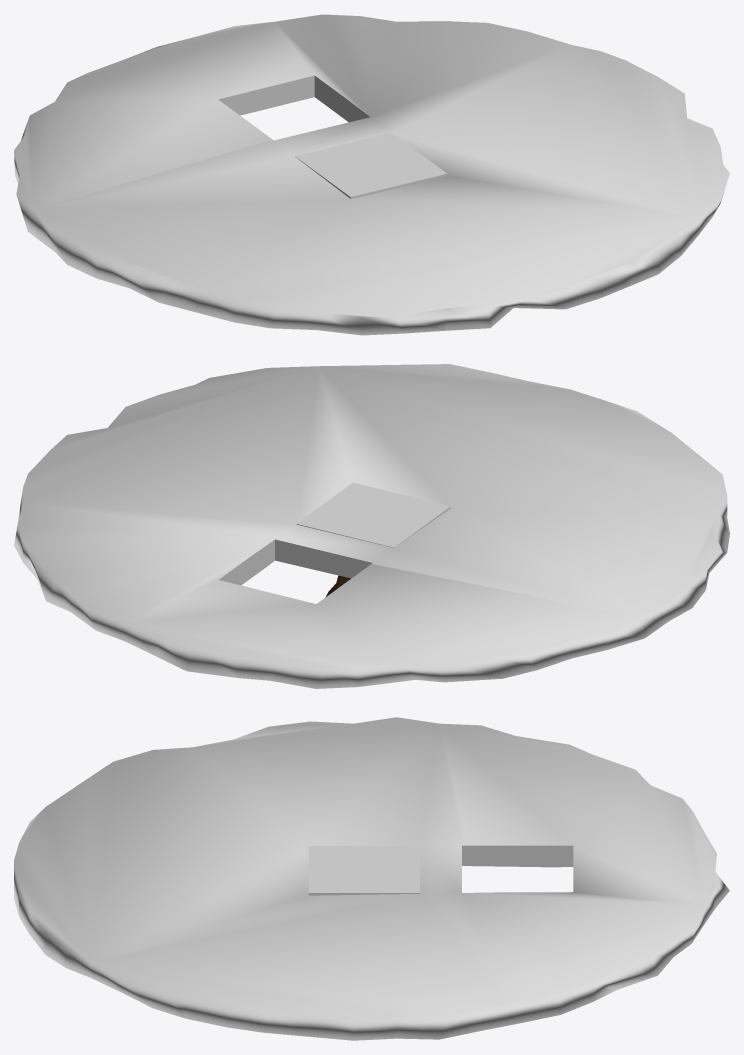
Rendered from Platform 1.fbx.
The picture shows the model from 3 angles, top to bottom: view 1: azimuth 30°, elevation 25°; view 2: azimuth 150°, elevation 25°; view 3: azimuth 270°, elevation 25°; orthographic projection.
Parts seen in each view (by area): view 1: Cylinder; view 2: Cylinder; view 3: Cylinder.
Boxes of the visible parts, <box> form: Cylinder: <box>14,14,729,335</box>; Cylinder: <box>14,364,729,688</box>; Cylinder: <box>14,717,729,1040</box>.
Bounding box in the file's own units: 1279 × 254 × 1288.
2 materials, 1 textured.
